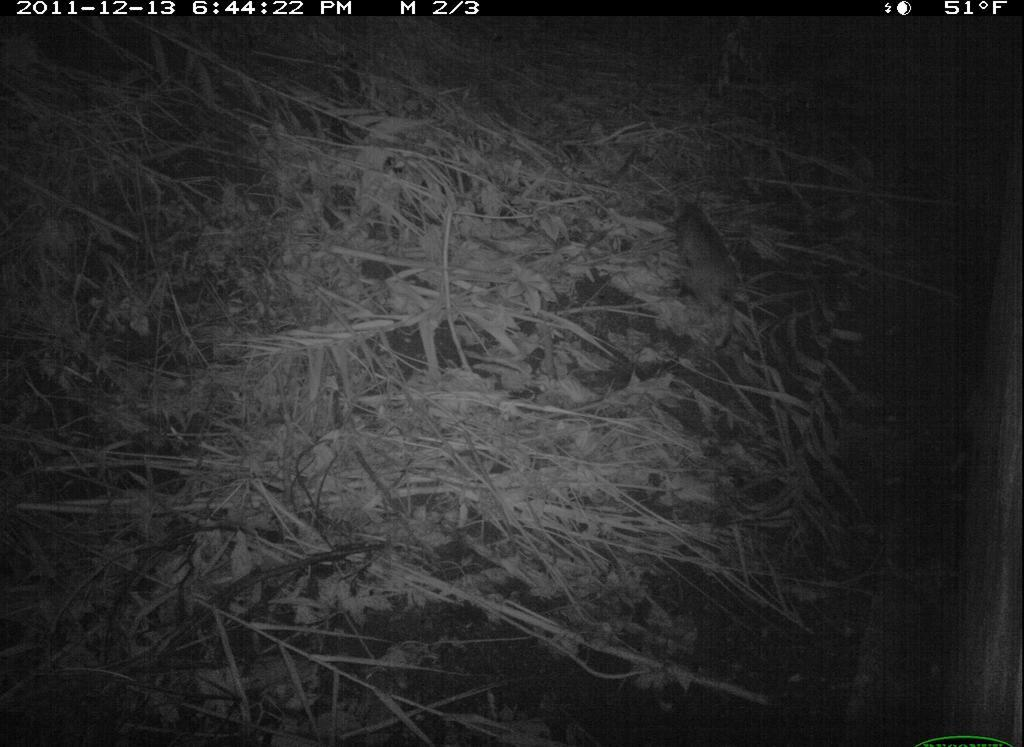bobcat: (670, 190, 747, 345)
